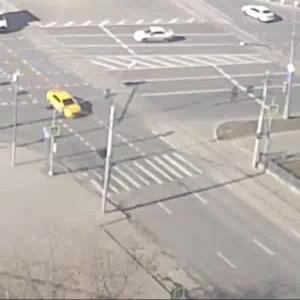car: (47, 92, 87, 119), (241, 5, 277, 25), (133, 28, 177, 44)
